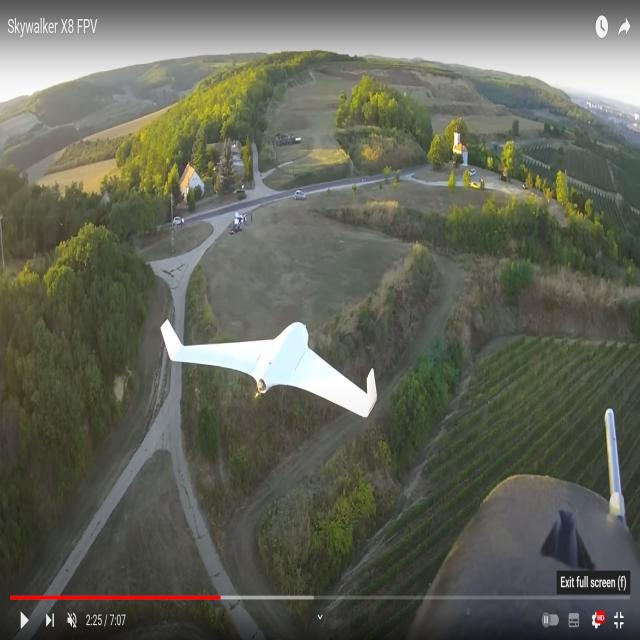iha: (163, 349, 376, 392)
